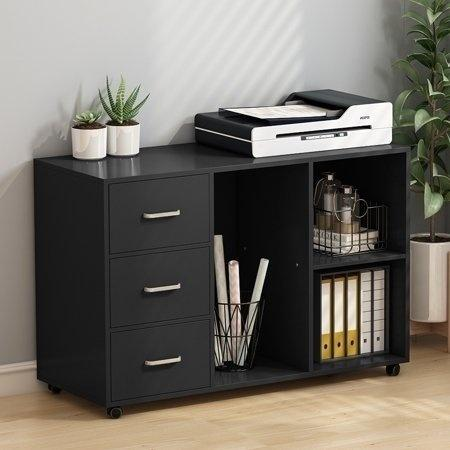cabinet_door: (108, 322, 208, 394), (109, 249, 208, 320), (110, 180, 209, 248)
handle: (141, 277, 183, 301), (143, 350, 184, 374), (141, 204, 181, 227)
